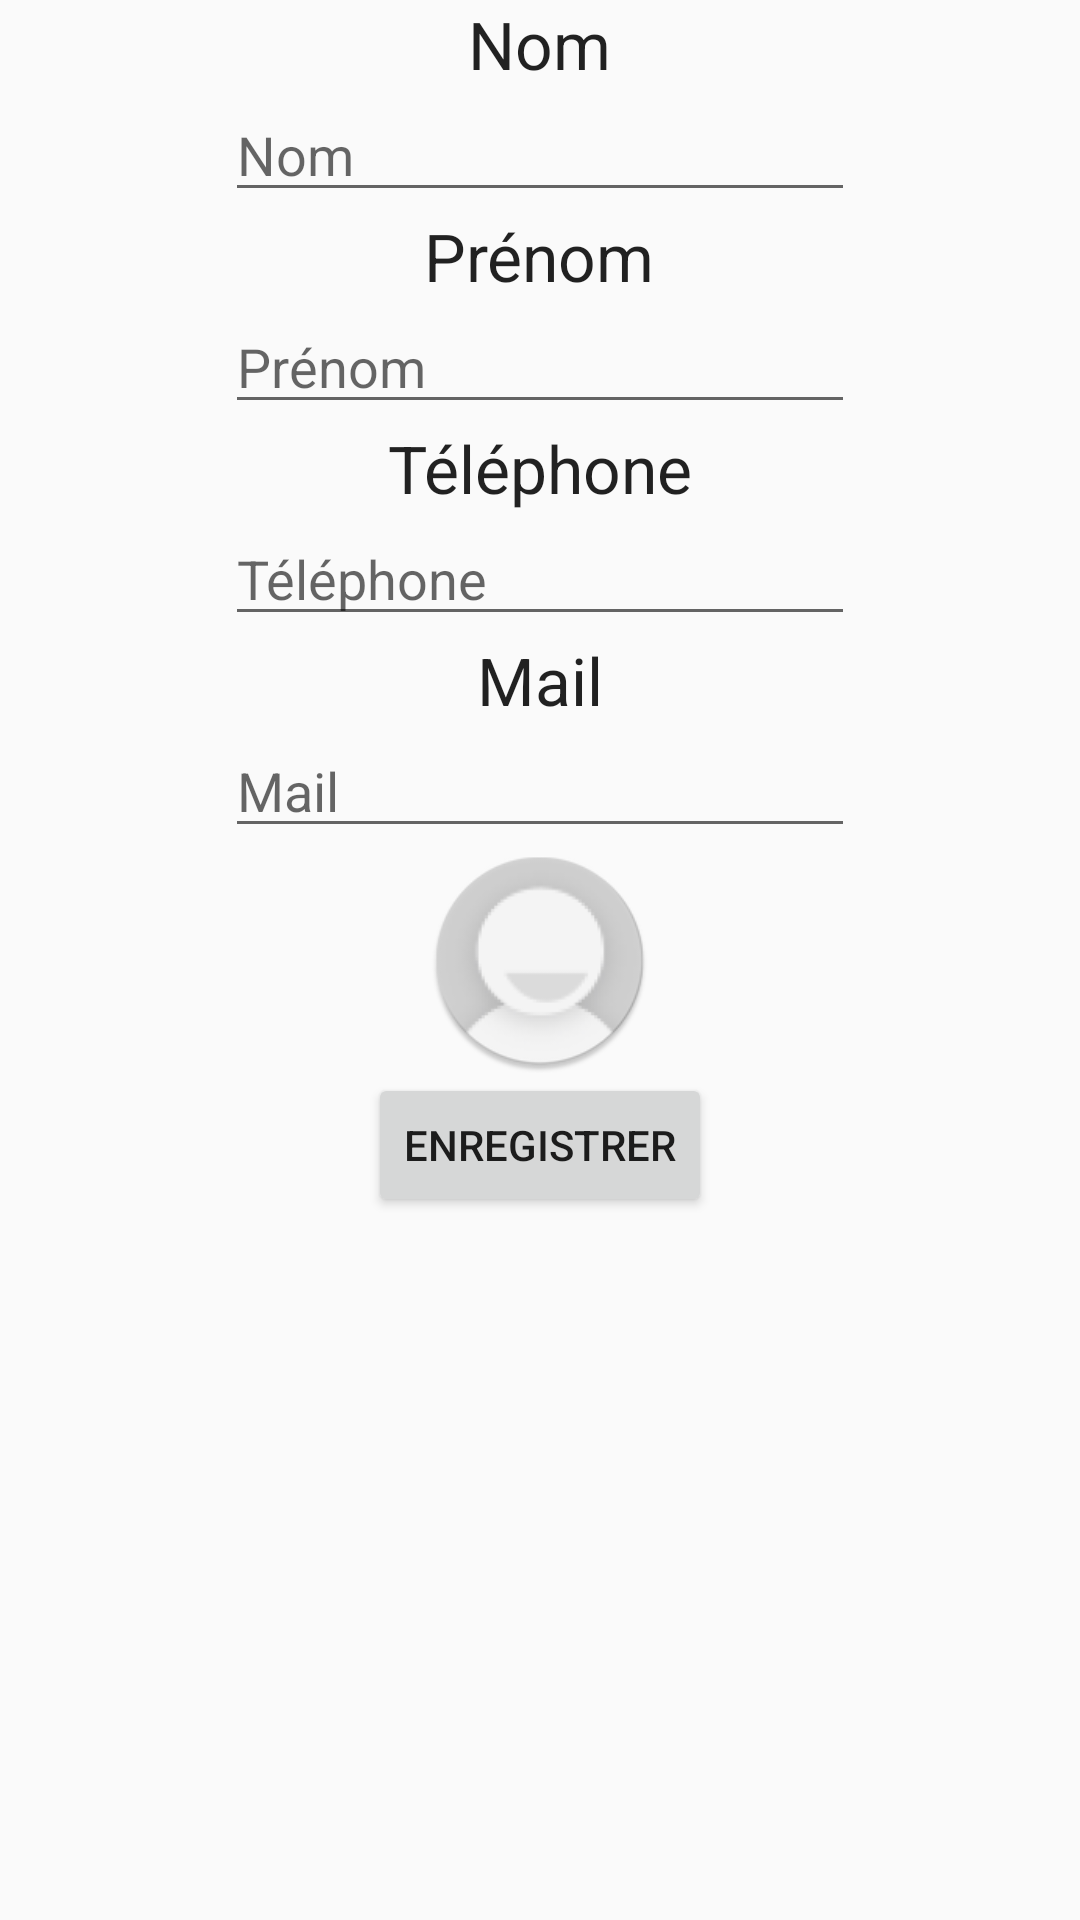

Named icons in this screenshot (1080 x 1920) and their bounding boxes, (x1, y1, x2, y2):
contact: (436, 858, 644, 1069)
